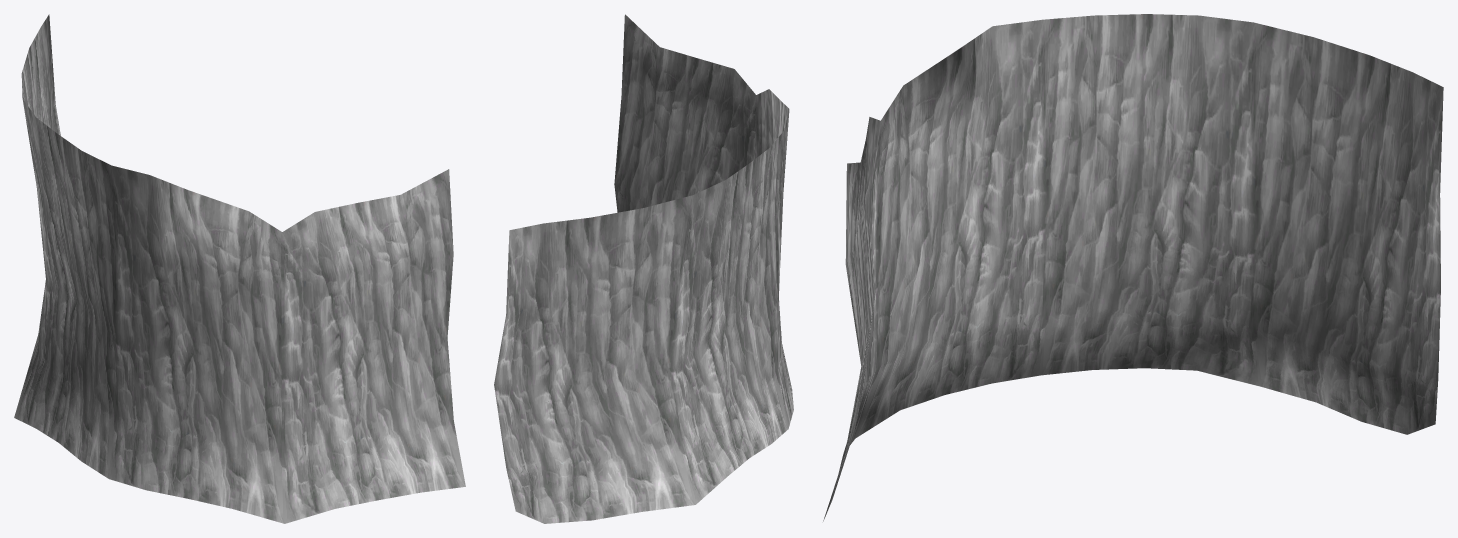
Rendered from SWORDLIGHT20_PS-AREA03_203.fbx.
3 renders of one model, left to right at view 1: azimuth 30°, elevation 25°; view 2: azimuth 150°, elevation 25°; view 3: azimuth 270°, elevation 25°, orthographic. The views are drawn at different scales.
Parts seen in each view (by area): view 1: SWORDLIGHT20_PS-AREA03_203; view 2: SWORDLIGHT20_PS-AREA03_203; view 3: SWORDLIGHT20_PS-AREA03_203.
Part boxes in pixels (x1,y1,x2,y2): SWORDLIGHT20_PS-AREA03_203: [14, 14, 465, 523]; SWORDLIGHT20_PS-AREA03_203: [494, 14, 793, 523]; SWORDLIGHT20_PS-AREA03_203: [823, 14, 1443, 521].
Bounding box in the file's own units: 85379 × 98945 × 150130.
Materials: 1 (1 with a texture image).
